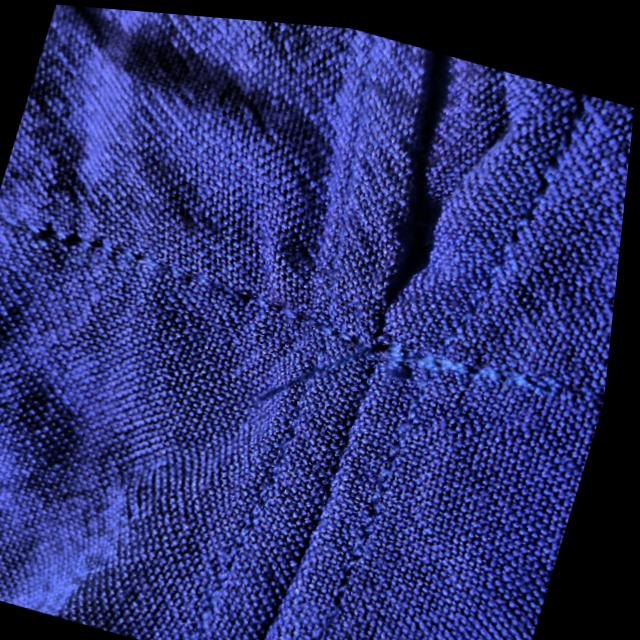Stitch: (172, 269, 453, 483)
